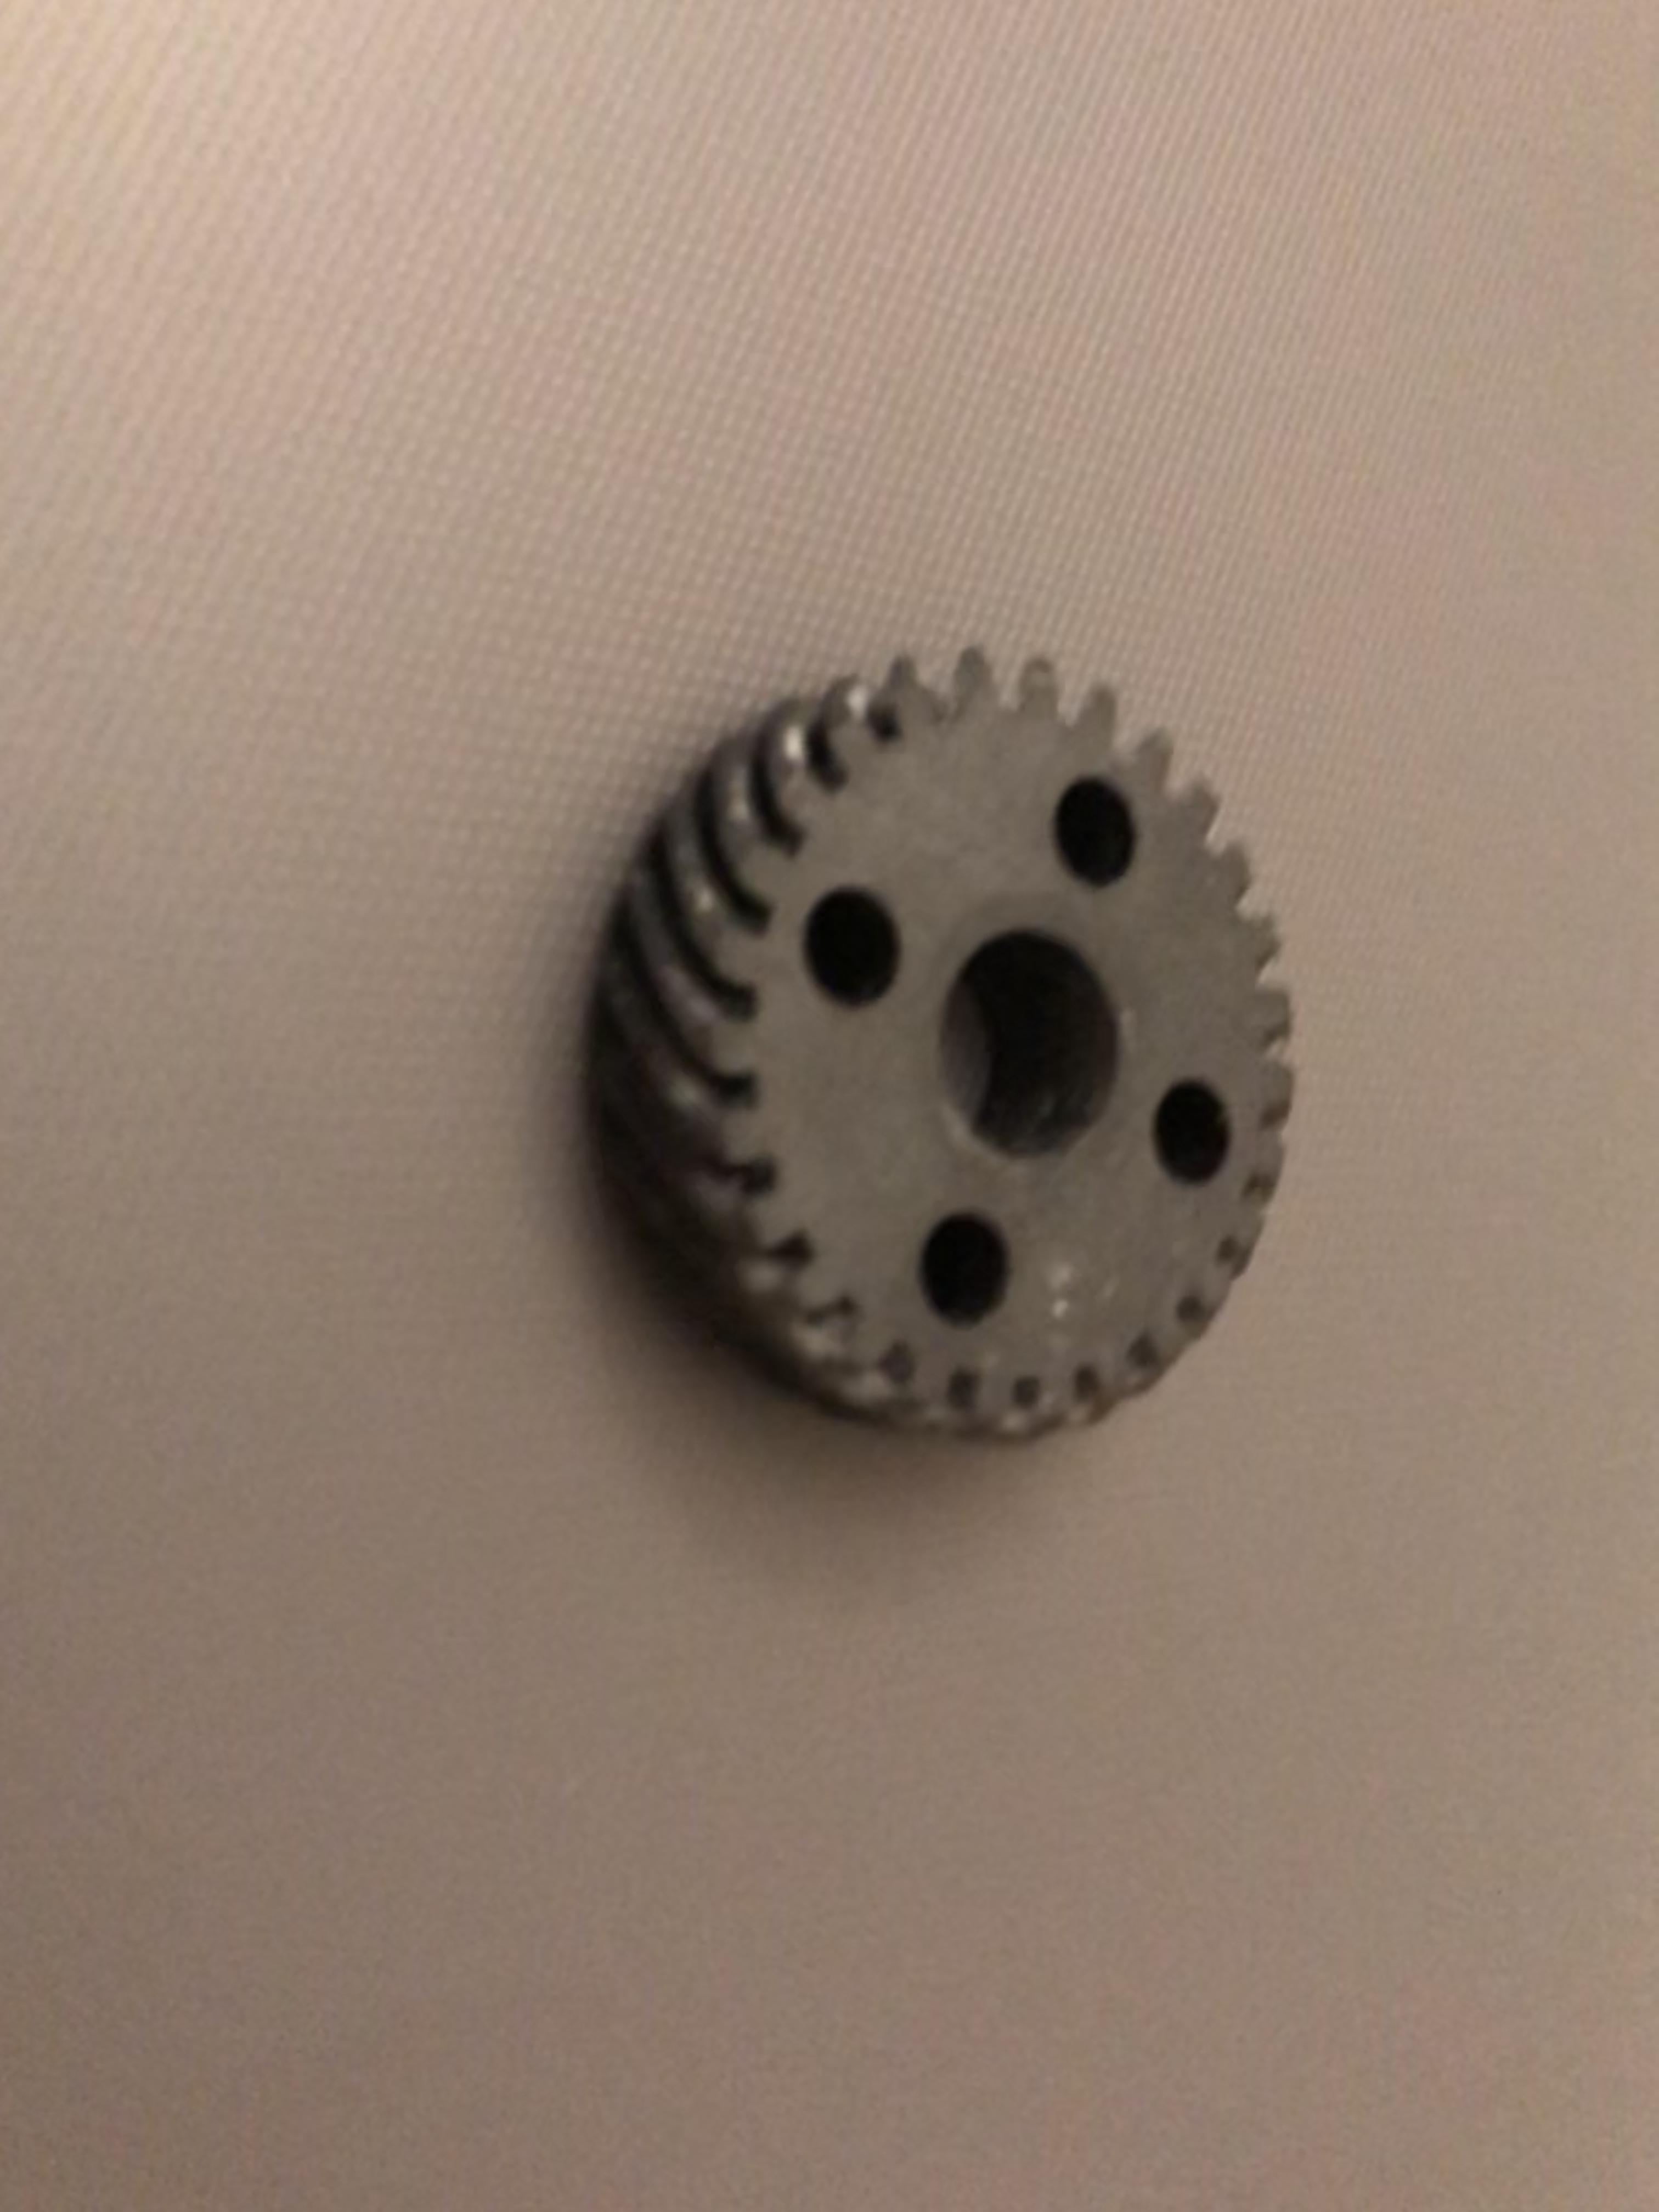Wheel: (556, 636, 1302, 1458)
